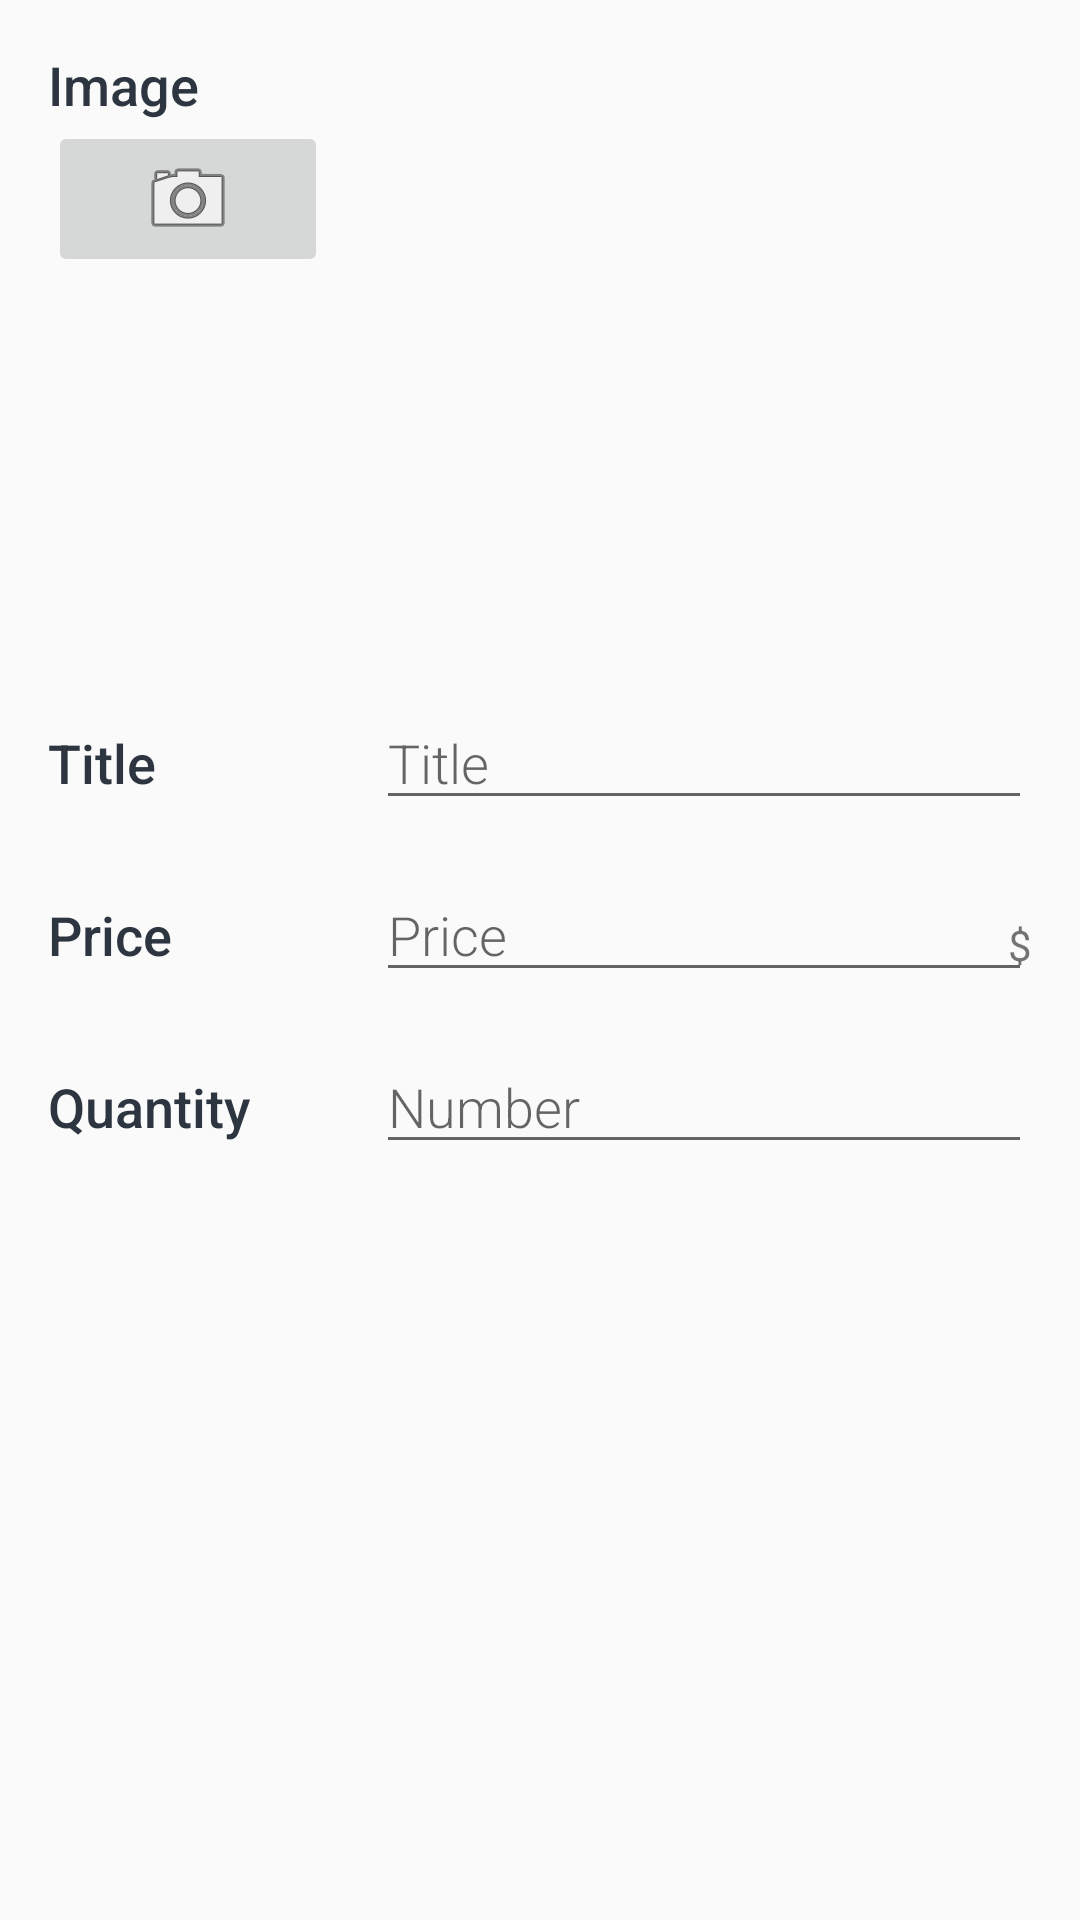

Where icons sit on this 1080x1920 app screen, as Rect(x1, y1, x2, y2):
camera: Rect(60, 139, 316, 259)
